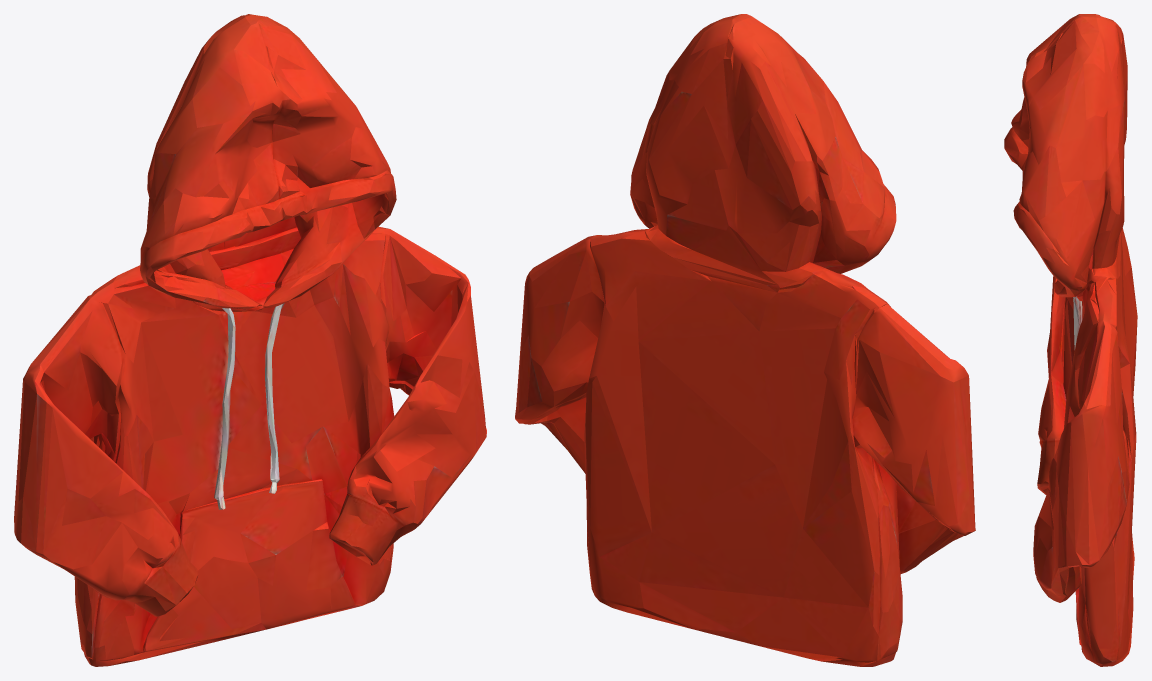
The model's file is addy_sweatshirt_kids.glb.
3 views of the same model, side by side, from view 1: azimuth 30°, elevation 25°; view 2: azimuth 150°, elevation 25°; view 3: azimuth 270°, elevation 25° (orthographic). The views are drawn at different scales.
Bounding box in the file's own units: 1.51 × 1.9 × 0.391.
1 material, 1 textured.
